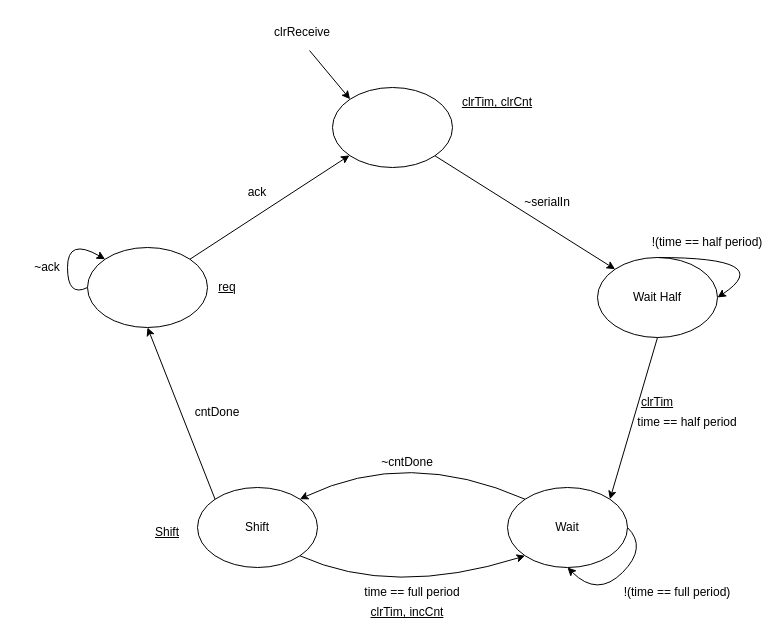
Image size: 784x644. Some labels were removed from this diagram. Each missing label, with the box of its shape:
Init: (332, 86, 452, 168)
Send Data: (86, 246, 208, 328)
